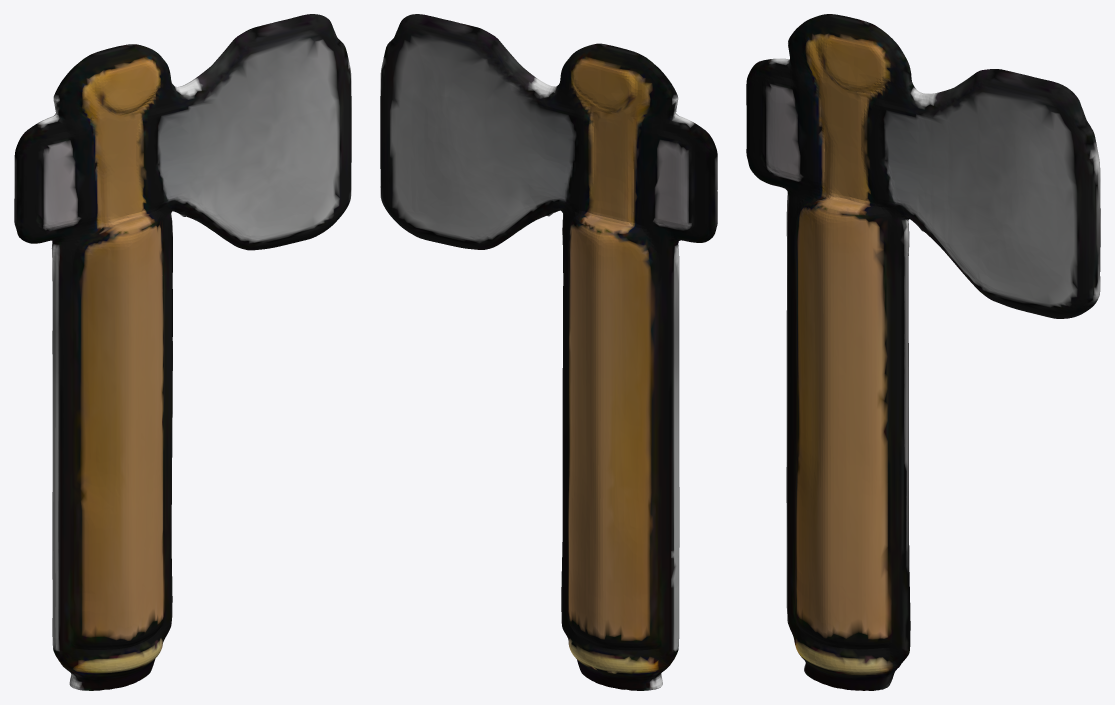
File: stoneaxe.glb
The picture shows the model from 3 angles, left to right: view 1: azimuth 30°, elevation 25°; view 2: azimuth 150°, elevation 25°; view 3: azimuth 330°, elevation 25°; orthographic projection. The views are drawn at different scales.
Parts seen in each view (by area): view 1: geometry_0; view 2: geometry_0; view 3: geometry_0.
Boxes of the visible parts, <box> form: geometry_0: <box>14,14,351,690</box>; geometry_0: <box>380,14,717,690</box>; geometry_0: <box>746,14,1100,690</box>.
Bounding box in the file's own units: 0.5312 × 0.9523 × 0.1158.
